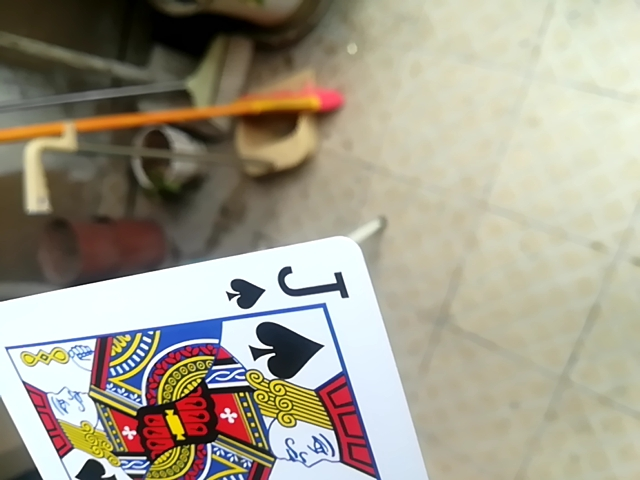ht j: (0, 238, 445, 480)
